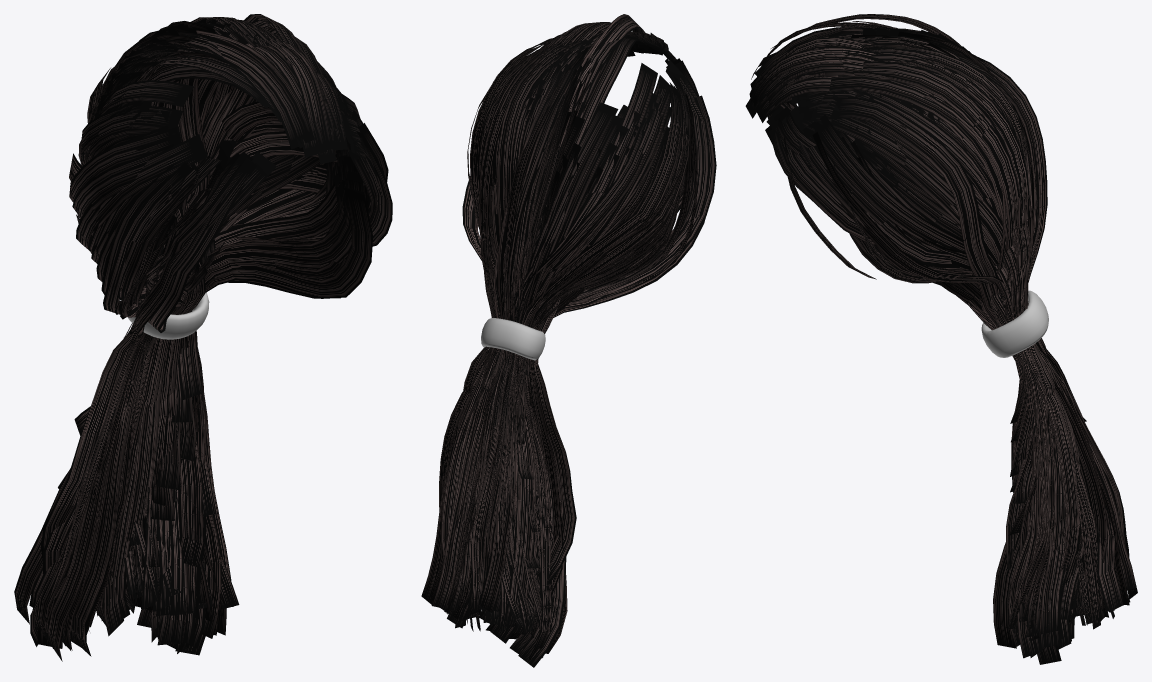
The model's file is Hair09.fbx.
The picture shows the model from 3 angles, left to right: view 1: azimuth 30°, elevation 25°; view 2: azimuth 150°, elevation 25°; view 3: azimuth 270°, elevation 25°; orthographic projection. The views are drawn at different scales.
Parts seen in each view (by area): view 1: hair9; view 2: hair9; view 3: hair9.
Part boxes in pixels (box(x1,y1,x2,y2)): hair9: box(14, 14, 392, 661); hair9: box(421, 14, 716, 667); hair9: box(745, 14, 1137, 664).
Bounding box in the file's own units: 20.44 × 51.79 × 29.97.
Materials: 2 (1 with a texture image).
